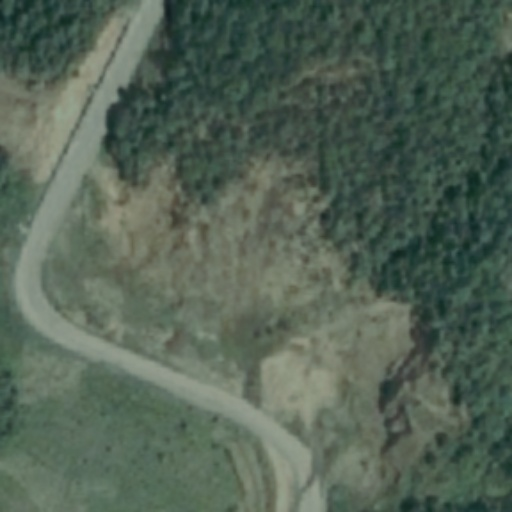landslide: (101, 156, 410, 447), (3, 70, 77, 182)
